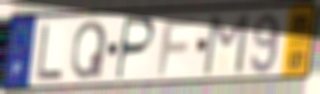9: (248, 11, 282, 75)
F: (155, 15, 199, 78)
L: (35, 23, 65, 81)
M: (200, 11, 252, 78)
P: (113, 15, 157, 83)
Q: (69, 19, 109, 82)
